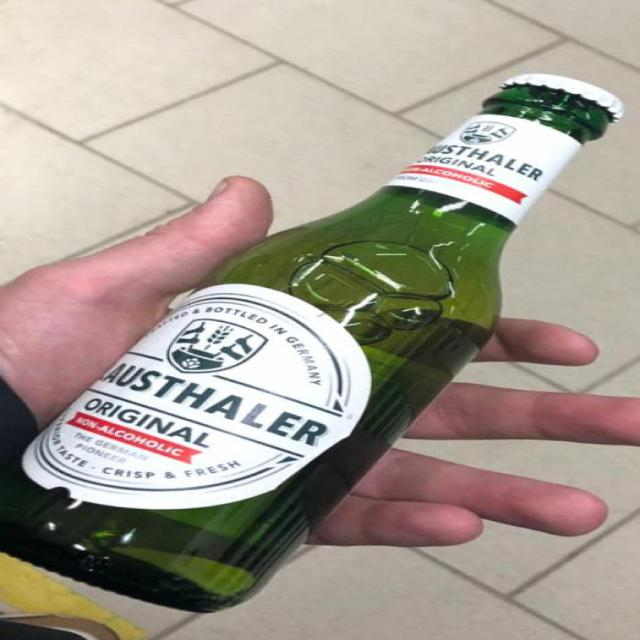Clausthaler Original Non-Alcoholic: (1, 0, 640, 640)
